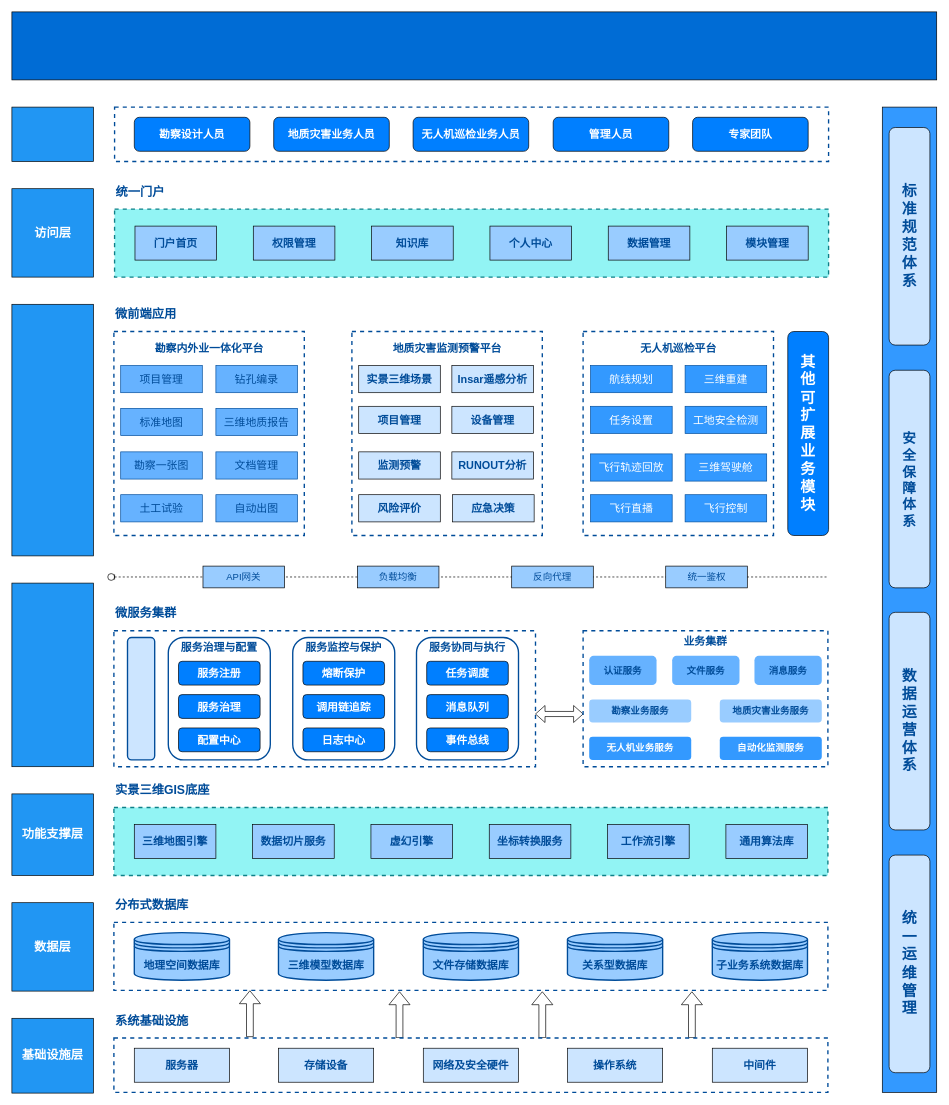
Some shapes in this 949 by 1105 pixel diagram are drawn without their labels. The centre of each missing label's shape, as x and y in pixels:
"业务应用层" goes at (x=52, y=430).
"岩土大数据平台建设系统架构" goes at (x=474, y=45).
"微 服 务 基 础 设 施" goes at (x=140, y=698).
"服务层" goes at (x=52, y=674).
"用户层" goes at (x=52, y=134).
